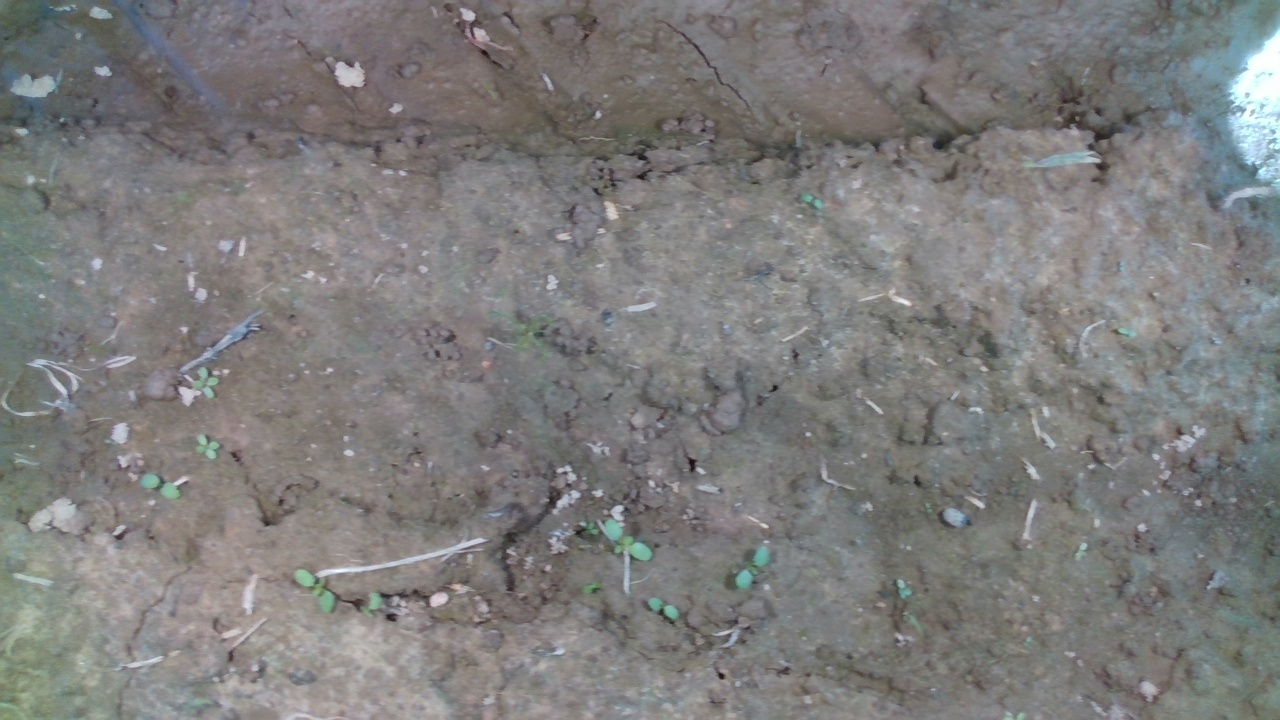weed: (187, 432, 222, 466)
